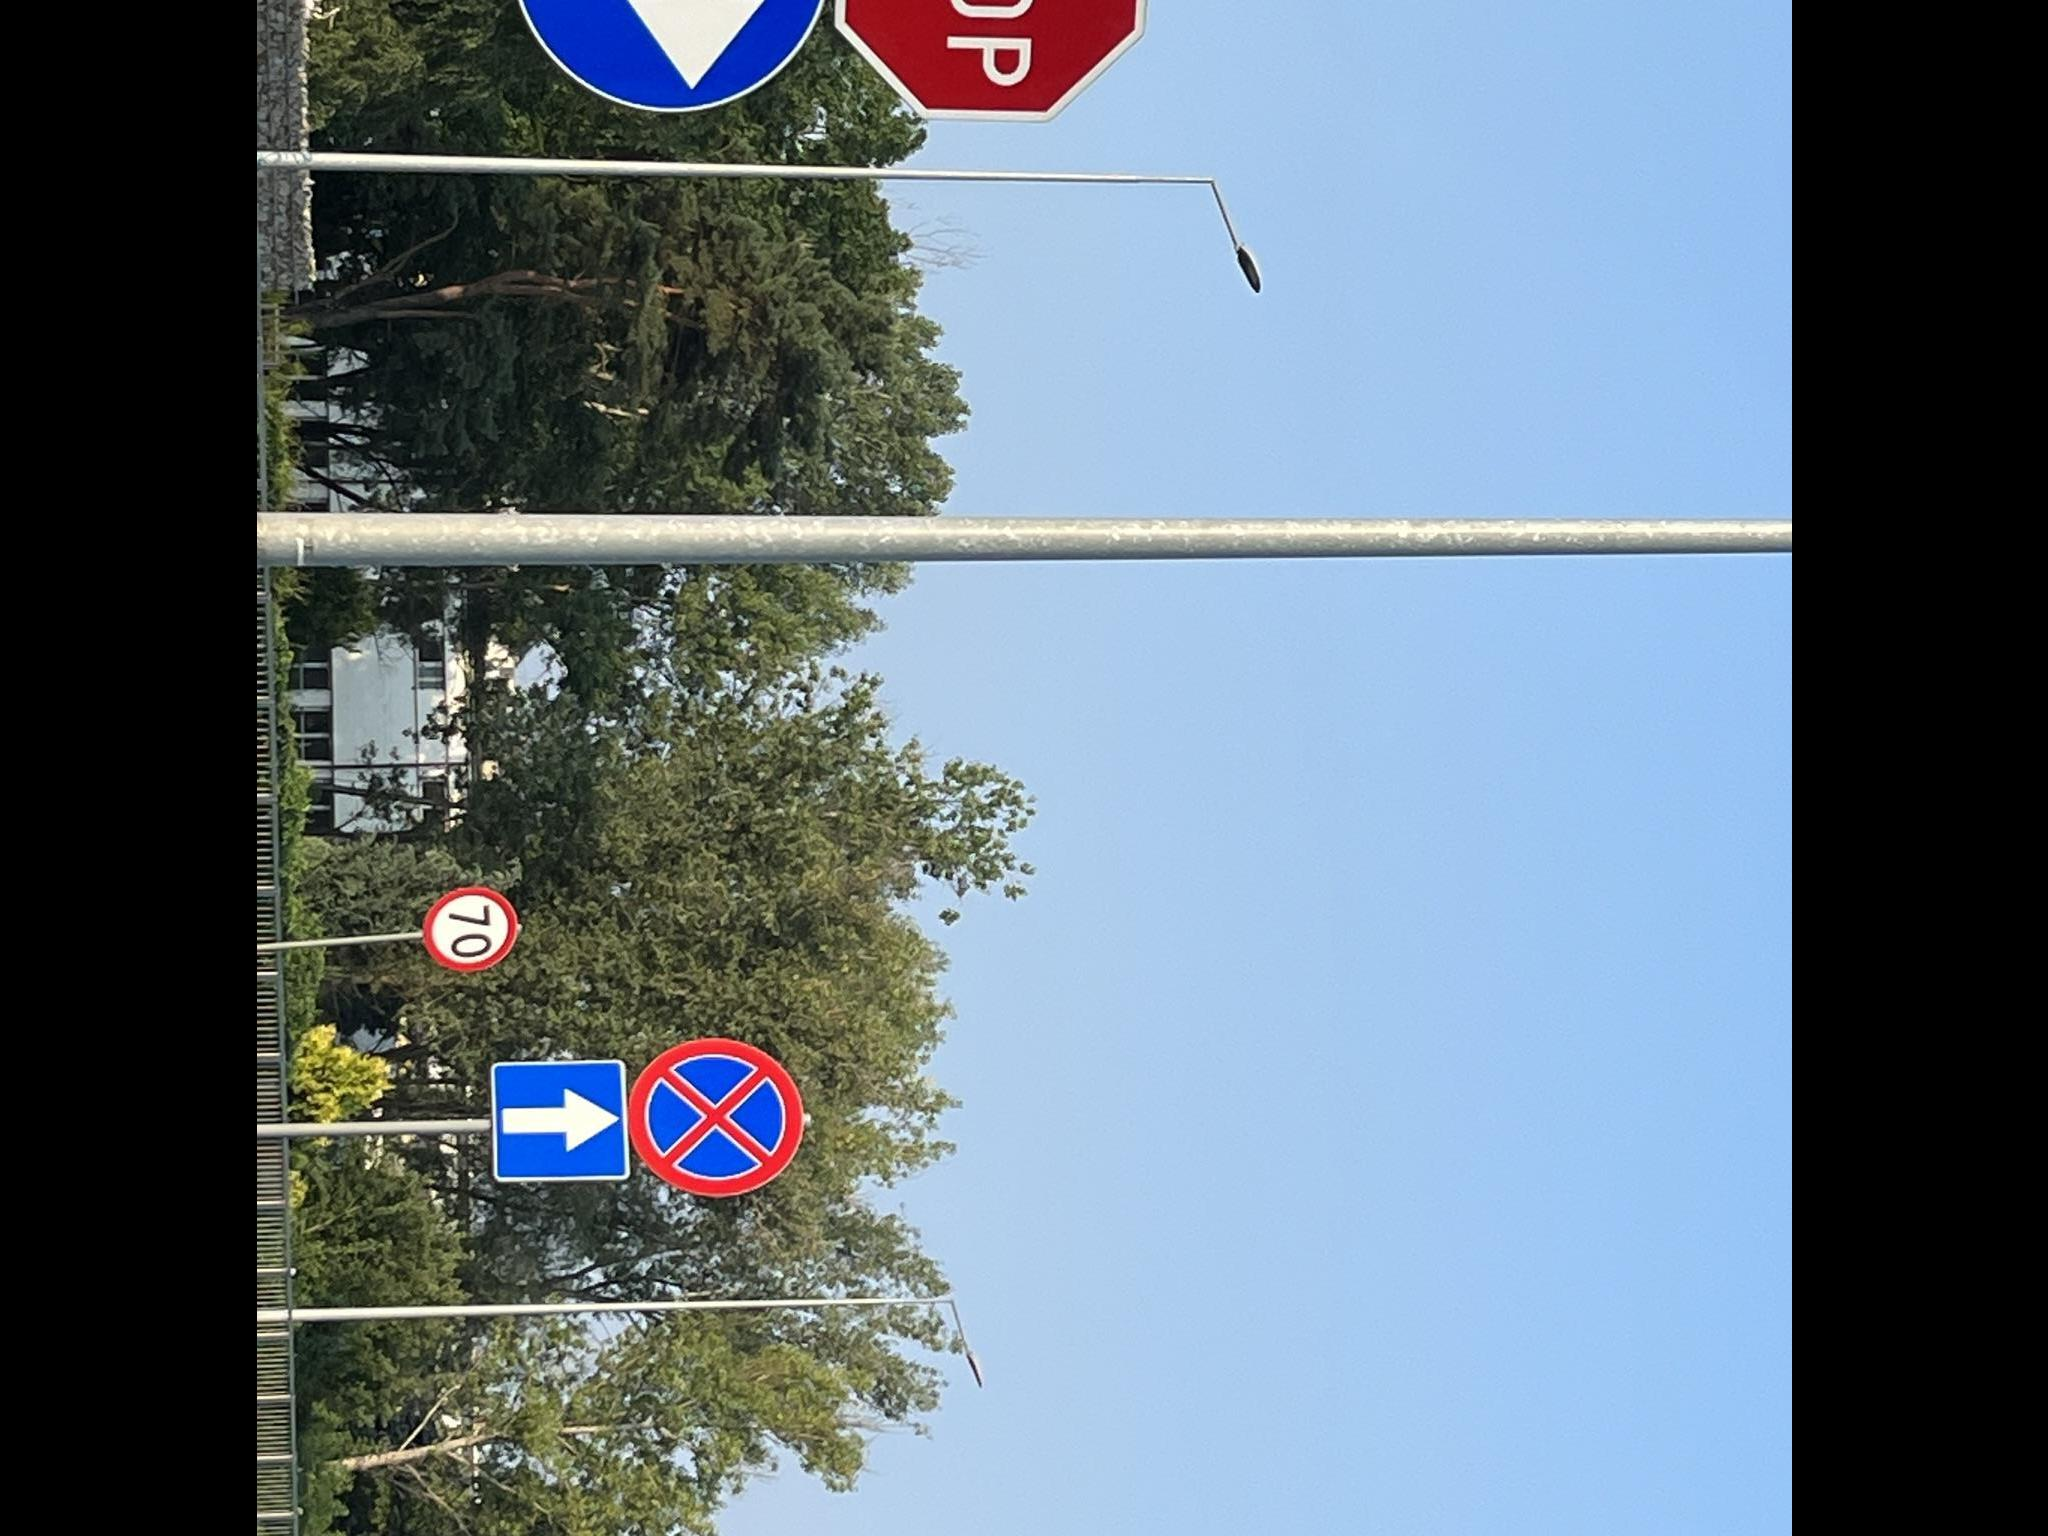information: (492, 1063, 626, 1178)
mandatory: (510, 0, 834, 118)
prohibitory: (834, 0, 1150, 123), (626, 1037, 805, 1197), (421, 886, 519, 973)
